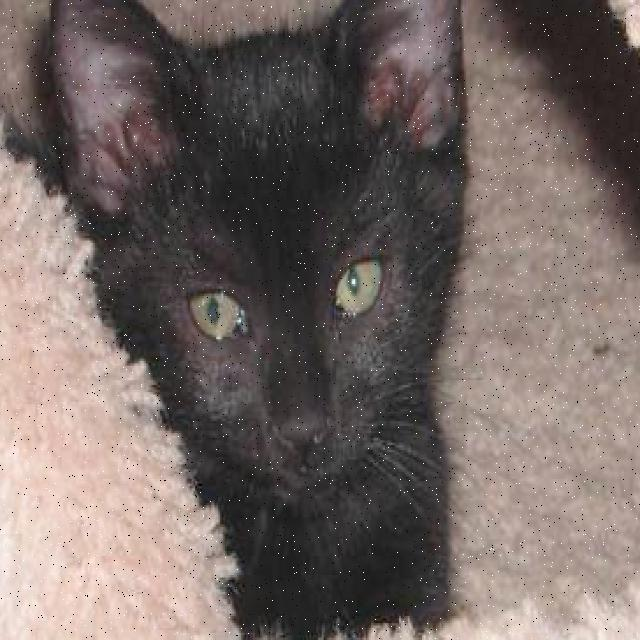Cat: (58, 0, 468, 558)
